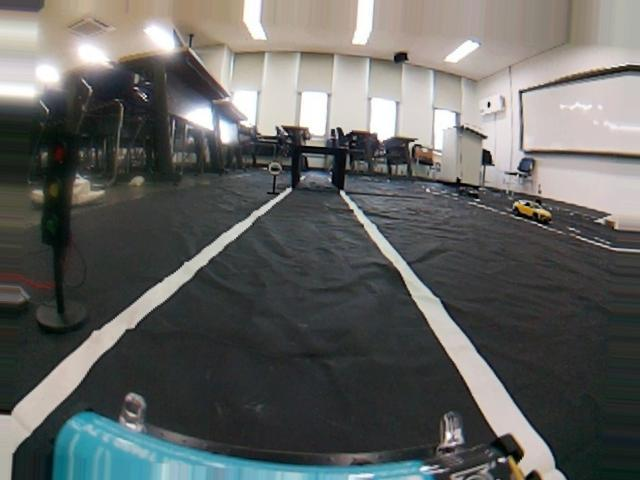straight: (91, 200, 477, 470)
yellow_light: (39, 134, 82, 252)
